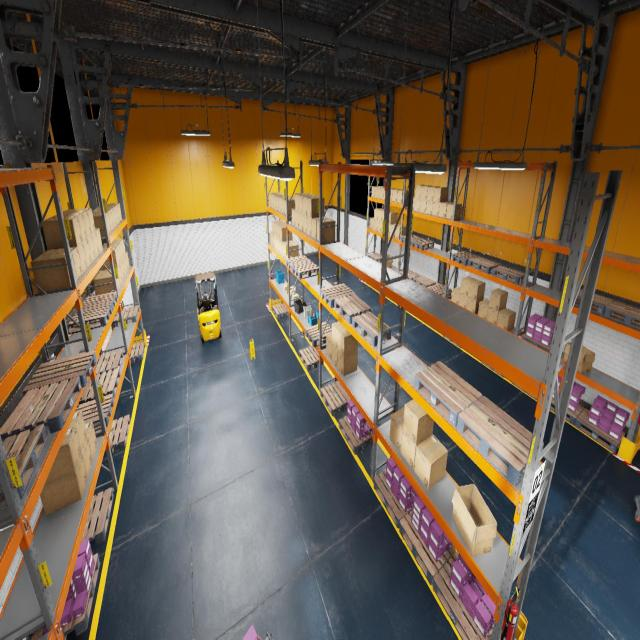box: (451, 483, 497, 556), (40, 454, 87, 515), (44, 426, 82, 485), (414, 434, 448, 490), (30, 252, 76, 292), (403, 399, 434, 445), (40, 247, 82, 280), (42, 216, 82, 250), (401, 430, 432, 470), (50, 213, 87, 242), (56, 210, 92, 238), (563, 342, 595, 373), (63, 208, 95, 234), (68, 411, 87, 452), (390, 407, 404, 452), (338, 328, 358, 357), (93, 273, 118, 295), (96, 268, 120, 290), (338, 350, 358, 376), (99, 247, 120, 270), (92, 208, 116, 228), (85, 422, 97, 461), (92, 209, 113, 230), (95, 206, 118, 225), (497, 308, 516, 331), (489, 288, 508, 311), (92, 211, 111, 233), (98, 204, 120, 223), (102, 241, 124, 260), (317, 219, 335, 242), (82, 437, 92, 478), (102, 244, 122, 264), (312, 217, 328, 240), (105, 238, 125, 256), (307, 197, 324, 217), (302, 196, 319, 216), (468, 280, 485, 300), (460, 276, 477, 296), (332, 321, 344, 349), (93, 214, 108, 236), (487, 306, 505, 324), (298, 194, 314, 214), (467, 296, 483, 314), (295, 193, 310, 212), (106, 203, 122, 220), (446, 203, 462, 220), (78, 243, 87, 273), (82, 238, 91, 267), (282, 240, 295, 258), (433, 187, 448, 202), (285, 242, 299, 258), (439, 202, 453, 218), (281, 197, 294, 214), (478, 299, 489, 319), (88, 235, 96, 262), (278, 196, 291, 212), (279, 225, 292, 241), (95, 228, 103, 253), (284, 198, 295, 216), (427, 186, 440, 201), (271, 193, 283, 208), (274, 222, 286, 237), (273, 194, 284, 210), (92, 232, 99, 257), (394, 225, 406, 239), (272, 220, 283, 235), (452, 286, 461, 304), (458, 292, 468, 308), (421, 186, 432, 200), (277, 223, 286, 240), (332, 342, 338, 367), (415, 185, 426, 198), (269, 192, 279, 206), (390, 223, 400, 237), (397, 190, 408, 202), (326, 334, 331, 359), (276, 196, 284, 211), (382, 210, 392, 222), (392, 189, 401, 202), (432, 202, 440, 216), (384, 188, 394, 199), (371, 186, 381, 197), (374, 208, 383, 220), (375, 187, 384, 198), (389, 212, 397, 224), (390, 188, 397, 201), (426, 200, 432, 214), (118, 265, 122, 285), (120, 261, 124, 281), (307, 216, 311, 236), (420, 200, 426, 213), (414, 199, 420, 212), (122, 258, 126, 277), (126, 251, 130, 270), (302, 214, 306, 233), (124, 255, 128, 273), (298, 213, 302, 231), (295, 211, 299, 229), (378, 209, 384, 221), (387, 254, 392, 268), (379, 187, 384, 199), (292, 208, 295, 226), (290, 286, 296, 294), (378, 220, 382, 232), (370, 218, 374, 230), (292, 294, 299, 300), (277, 238, 280, 252), (272, 234, 275, 248), (270, 232, 273, 245), (412, 197, 415, 210), (288, 292, 294, 298), (374, 219, 377, 231), (280, 240, 282, 255), (275, 236, 277, 250), (283, 284, 287, 290), (388, 225, 390, 235), (381, 222, 383, 232)
forklift: (195, 272, 221, 343)
pallets: (456, 396, 544, 486), (31, 554, 100, 640), (432, 551, 493, 640), (0, 376, 82, 442), (414, 361, 482, 427), (399, 510, 455, 585), (0, 423, 47, 501), (22, 350, 97, 398), (574, 408, 626, 454), (373, 469, 412, 528), (82, 487, 114, 545), (75, 393, 114, 431), (79, 368, 120, 404), (352, 311, 391, 347), (96, 415, 130, 456), (68, 303, 112, 334), (339, 415, 372, 454), (334, 294, 371, 323), (320, 381, 350, 416), (604, 300, 640, 329), (574, 289, 613, 315), (550, 398, 584, 425), (320, 283, 355, 308), (95, 349, 123, 374), (82, 292, 118, 310), (305, 322, 331, 346), (492, 265, 524, 284), (299, 346, 323, 370), (113, 305, 139, 327), (522, 333, 552, 352), (468, 257, 500, 273), (292, 261, 319, 279), (512, 382, 538, 400), (451, 250, 479, 266), (285, 255, 311, 271), (481, 361, 505, 377), (130, 342, 145, 364), (427, 284, 451, 296), (413, 276, 436, 288), (411, 238, 434, 250), (272, 303, 288, 319), (399, 270, 420, 281), (400, 234, 422, 244), (443, 335, 461, 347), (424, 322, 439, 332), (368, 253, 382, 262), (410, 313, 423, 321), (638, 497, 640, 510), (370, 285, 374, 288), (258, 636, 262, 639)
